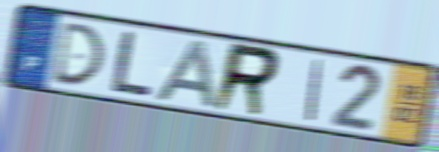2: (328, 63, 385, 134)
A: (151, 37, 221, 112)
D: (50, 19, 106, 87)
I: (303, 56, 326, 124)
L: (108, 29, 154, 100)
R: (209, 39, 284, 120)
